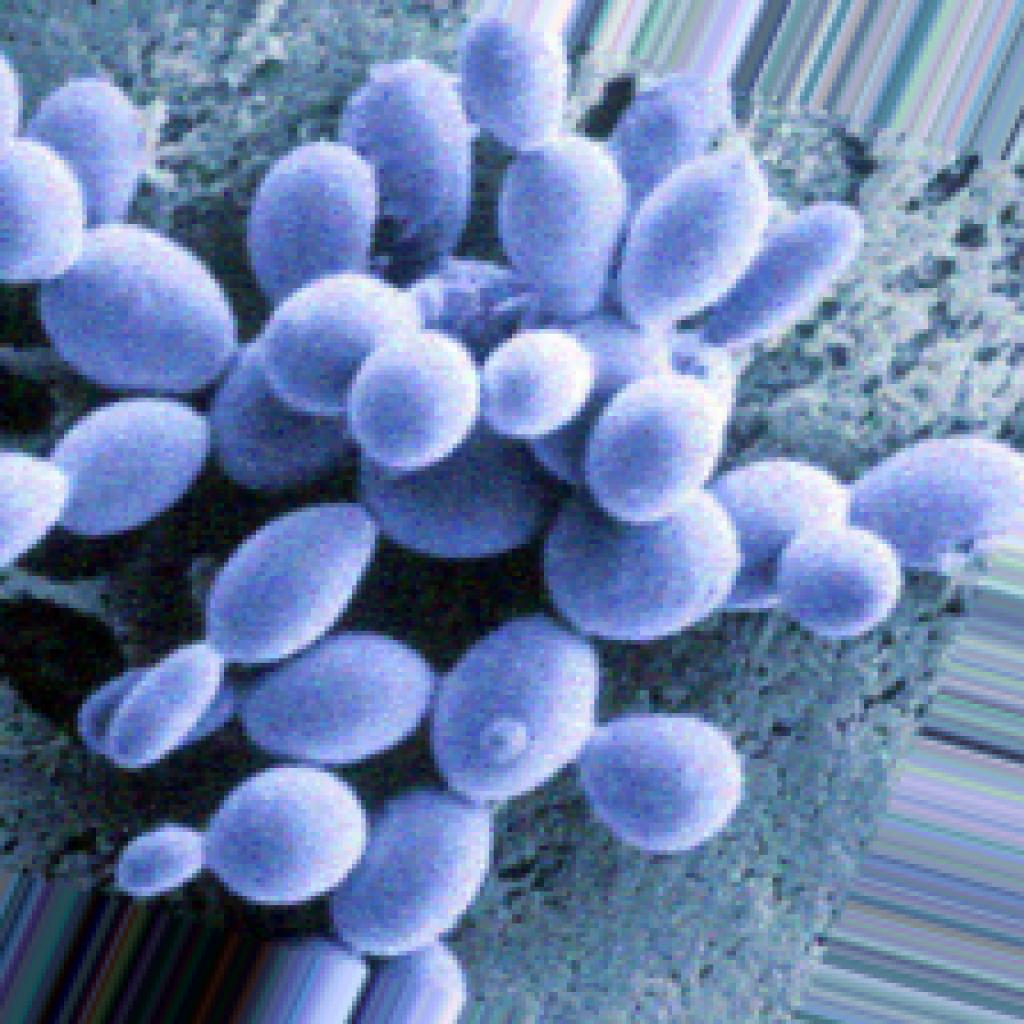Yeast: (0, 4, 1019, 1019)
